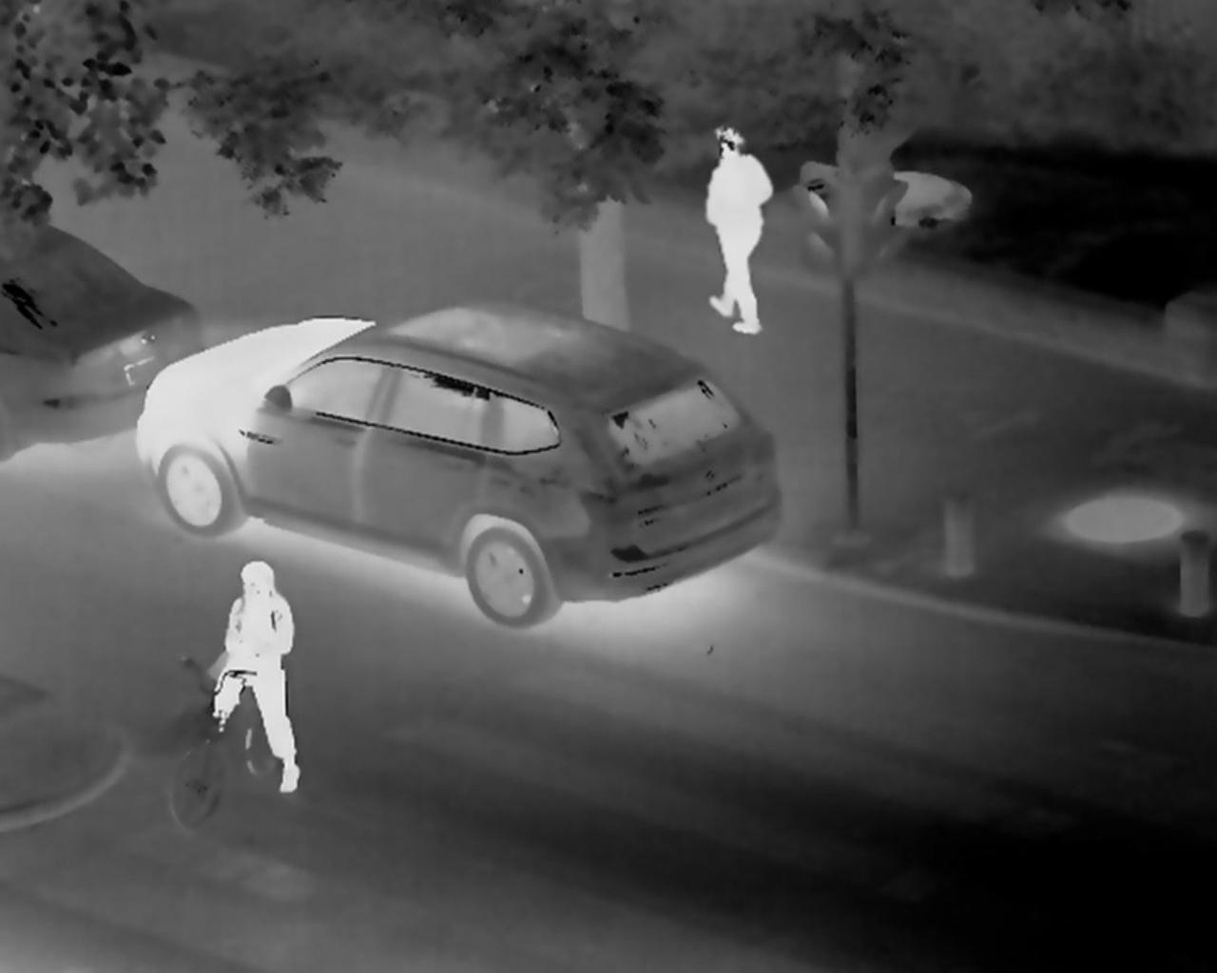person: (207, 557, 307, 793), (702, 123, 769, 338)
